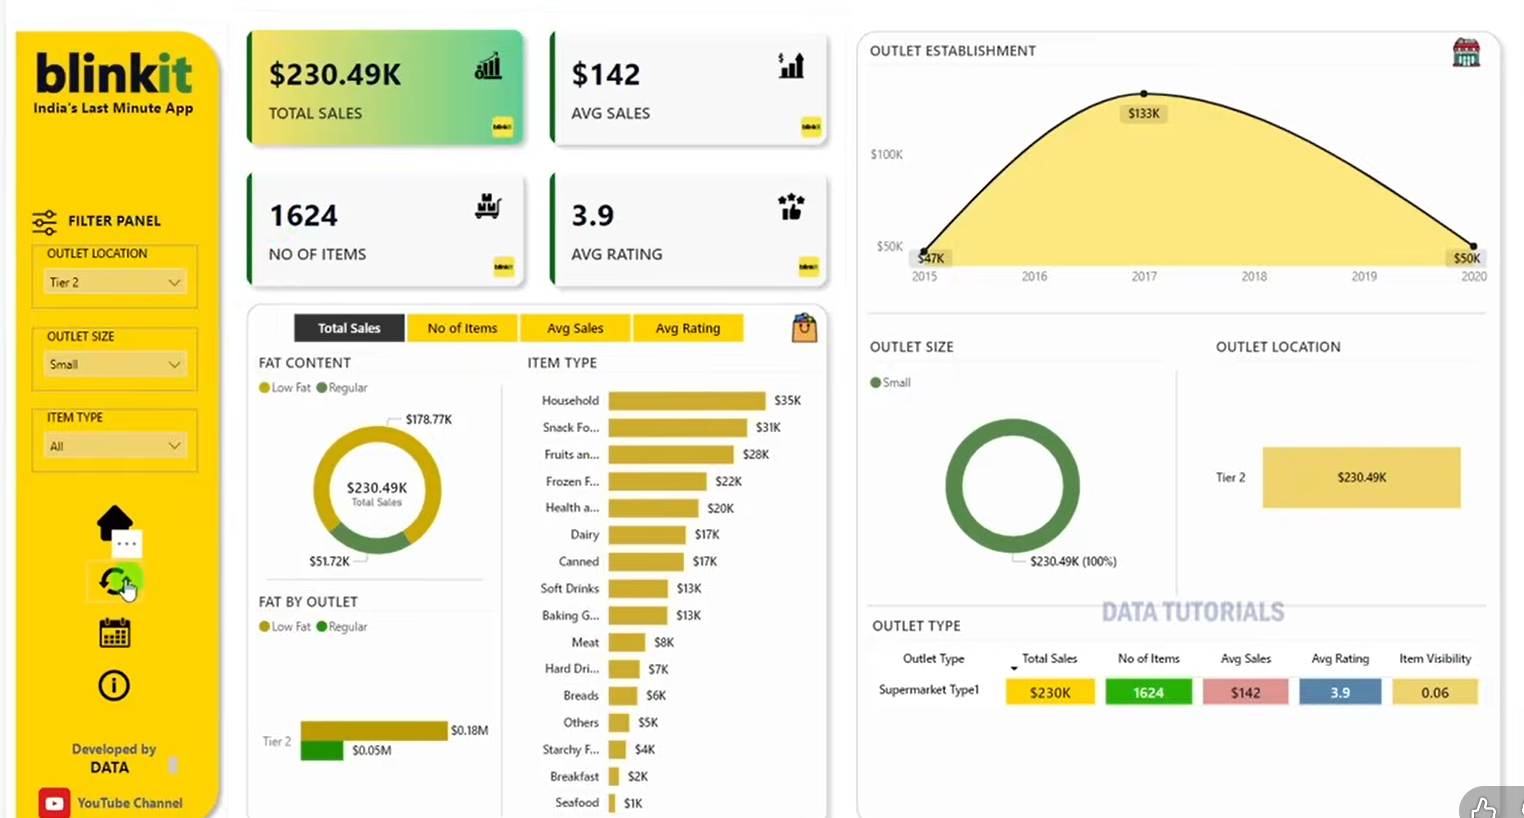

The dashboard page shown, as its layout file describes it:
{"tool":"powerbi","page":{"name":"Page 1","canvas":[1400,800],"ordinal":0},"visuals":[{"type":"shape","box":[10.9,8.2,205.9,779.8],"z":0},{"type":"textbox","box":[262.9,688.6,255.7,100],"z":1000},{"type":"textbox","box":[262.9,580,255.7,128.6],"z":2000},{"type":"textbox","box":[24.3,20,178.6,75.7],"z":3000},{"type":"textbox","box":[31.4,85.7,165.7,40],"z":4000},{"type":"cardVisual","fields":{"Data":["BlinkIT Grocery Data.Total Sales","BlinkIT Grocery Data.Avg Sales","BlinkIT Grocery Data.No of Items","BlinkIT Grocery Data.Avg Rating"]},"box":[211.3,12.3,560.3,293.1],"z":5000},{"type":"shape","box":[217.1,305.7,554.3,482.9],"z":6000},{"type":"donutChart","title":"FAT CONTENT","fields":{"Y":["BlinkIT Grocery Data.Total Sales"],"Category":["BlinkIT Grocery Data.Item Fat Content"]},"box":[227.7,373.6,220.9,201.8],"z":7000},{"type":"slicer","fields":{"Values":["Metrix.Metrix"]},"box":[251.7,330,466.7,38.3],"z":8000},{"type":"cardVisual","fields":{"Data":["BlinkIT Grocery Data.Total Sales"]},"box":[305.4,470.4,87.3,53.2],"z":9000},{"type":"clusteredBarChart","title":"FAT BY OUTLET","fields":{"Y":["BlinkIT Grocery Data.Total Sales"],"Category":["BlinkIT Grocery Data.Outlet Location Type"],"Series":["BlinkIT Grocery Data.Item Fat Content"]},"box":[229,575.3,219.5,208.6],"z":10000},{"type":"shape","box":[232.9,561.4,187.1,18.6],"z":11000},{"type":"shape","box":[447.1,378.6,12.9,394.3],"z":12000},{"type":"barChart","title":"ITEM TYPE","fields":{"Y":["BlinkIT Grocery Data.Total Sales"],"Category":["BlinkIT Grocery Data.Item Type"]},"box":[460,368.6,292.9,404.3],"z":13000},{"type":"shape","box":[771.6,0,610.8,779.8],"z":14000},{"type":"lineChart","title":"OUTLET ESTABLISHMENT","fields":{"Y":["BlinkIT Grocery Data.Total Sales"],"Category":["BlinkIT Grocery Data.Outlet Establishment Year"]},"box":[788,20.5,579.4,261.8],"z":15000},{"type":"shape","box":[788,286.3,579.4,19.1],"z":16000},{"type":"donutChart","title":"OUTLET SIZE","fields":{"Y":["BlinkIT Grocery Data.Total Sales"],"Category":["BlinkIT Grocery Data.Outlet Size"]},"box":[785.3,321.7,275.4,225],"z":17000},{"type":"shape","box":[1063.4,309.5,12.3,250.9],"z":18000},{"type":"funnel","title":"OUTLET LOCATION","fields":{"Y":["Sum(BlinkIT Grocery Data.Sales)"],"Category":["BlinkIT Grocery Data.Outlet Location Type"]},"box":[1089.3,305.4,275.4,241.3],"z":19000},{"type":"shape","box":[786.6,557.6,578.1,17.7],"z":20000},{"type":"pivotTable","title":"OUTLET TYPE","fields":{"Values":["BlinkIT Grocery Data.Total Sales","BlinkIT Grocery Data.No of Items","BlinkIT Grocery Data.Avg Sales","BlinkIT Grocery Data.Avg Rating","Avg(BlinkIT Grocery Data.Item Visibility)"],"Rows":["BlinkIT Grocery Data.Outlet Type"]},"box":[785.3,571.2,582.1,201.8],"z":21000},{"type":"slicer","fields":{"Values":["BlinkIT Grocery Data.Outlet Location Type"]},"box":[31.4,210,167.7,72.3],"z":22000},{"type":"slicer","fields":{"Values":["BlinkIT Grocery Data.Outlet Size"]},"box":[30,293.1,167.7,72.3],"z":23000},{"type":"slicer","fields":{"Values":["BlinkIT Grocery Data.Item Type"]},"box":[31.4,379,167.7,72.3],"z":24000},{"type":"textbox","box":[73.6,173.1,113.2,36.8],"z":25000},{"type":"actionButton","box":[85.2,579.8,45.7,39.6],"z":26000},{"type":"image","box":[86.7,523.5,44.1,47.2],"z":27000},{"type":"actionButton","box":[86.7,633,44.1,39.6],"z":28000}]}

Visuals, with their boxes on the page's 1400x800 design canvas (x1, y1, x2, y2). These are canvas units, not pixel positions in the 1524x818 screenshot, which may show the page scaled, cropped or inside an application window:
shape: [x1=11, y1=8, x2=217, y2=788]
textbox: [x1=263, y1=689, x2=519, y2=789]
textbox: [x1=263, y1=580, x2=519, y2=709]
textbox: [x1=24, y1=20, x2=203, y2=96]
textbox: [x1=31, y1=86, x2=197, y2=126]
cardVisual - BlinkIT Grocery Data.Total Sales x BlinkIT Grocery Data.Avg Sales: [x1=211, y1=12, x2=772, y2=305]
shape: [x1=217, y1=306, x2=771, y2=789]
"FAT CONTENT" donutChart: [x1=228, y1=374, x2=449, y2=575]
slicer - Metrix.Metrix: [x1=252, y1=330, x2=718, y2=368]
cardVisual - BlinkIT Grocery Data.Total Sales: [x1=305, y1=470, x2=393, y2=524]
"FAT BY OUTLET" clusteredBarChart: [x1=229, y1=575, x2=448, y2=784]
shape: [x1=233, y1=561, x2=420, y2=580]
shape: [x1=447, y1=379, x2=460, y2=773]
"ITEM TYPE" barChart: [x1=460, y1=369, x2=753, y2=773]
shape: [x1=772, y1=0, x2=1382, y2=780]
"OUTLET ESTABLISHMENT" lineChart: [x1=788, y1=20, x2=1367, y2=282]
shape: [x1=788, y1=286, x2=1367, y2=305]
"OUTLET SIZE" donutChart: [x1=785, y1=322, x2=1061, y2=547]
shape: [x1=1063, y1=310, x2=1076, y2=560]
"OUTLET LOCATION" funnel: [x1=1089, y1=305, x2=1365, y2=547]
shape: [x1=787, y1=558, x2=1365, y2=575]
"OUTLET TYPE" pivotTable: [x1=785, y1=571, x2=1367, y2=773]
slicer - BlinkIT Grocery Data.Outlet Location Type: [x1=31, y1=210, x2=199, y2=282]
slicer - BlinkIT Grocery Data.Outlet Size: [x1=30, y1=293, x2=198, y2=365]
slicer - BlinkIT Grocery Data.Item Type: [x1=31, y1=379, x2=199, y2=451]
textbox: [x1=74, y1=173, x2=187, y2=210]
actionButton: [x1=85, y1=580, x2=131, y2=619]
image: [x1=87, y1=524, x2=131, y2=571]
actionButton: [x1=87, y1=633, x2=131, y2=673]
